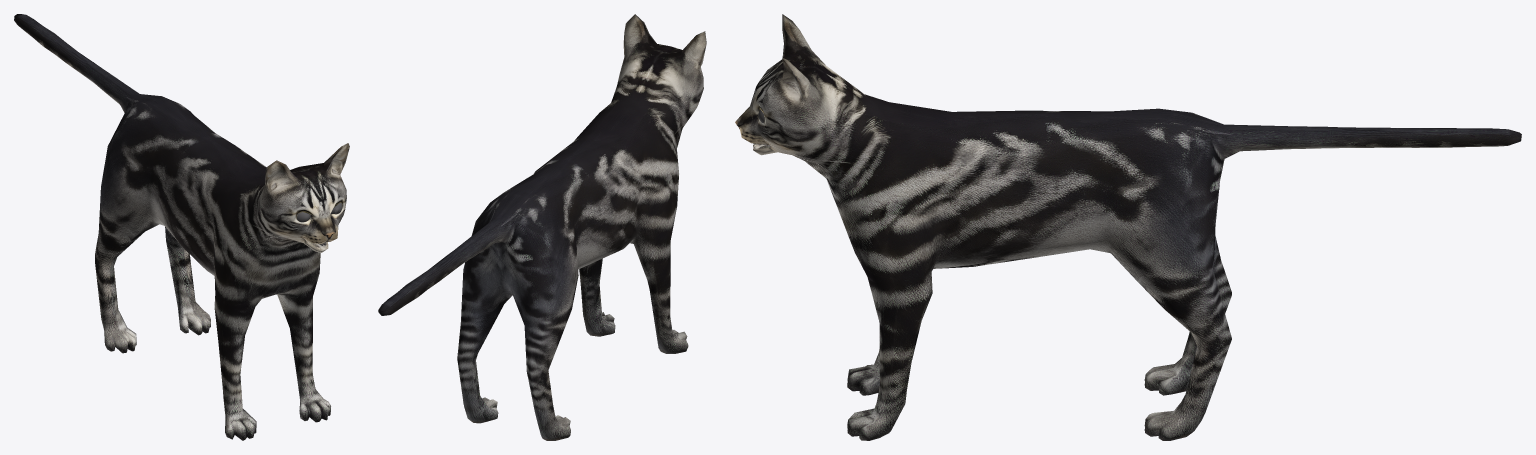
The picture shows the model from 3 angles, left to right: view 1: azimuth 30°, elevation 25°; view 2: azimuth 150°, elevation 25°; view 3: azimuth 270°, elevation 25°; orthographic projection. The views are drawn at different scales.
Visible parts, largest first — view 1: Mesh_0; view 2: Mesh_0; view 3: Mesh_0.
Boxes of the visible parts, x1,y1,x2,y2 form: Mesh_0: (14, 14, 349, 440); Mesh_0: (378, 14, 706, 440); Mesh_0: (735, 14, 1521, 440).
Size of the model in its own units: 39.05 by 105 by 200.
1 material, 1 textured.
